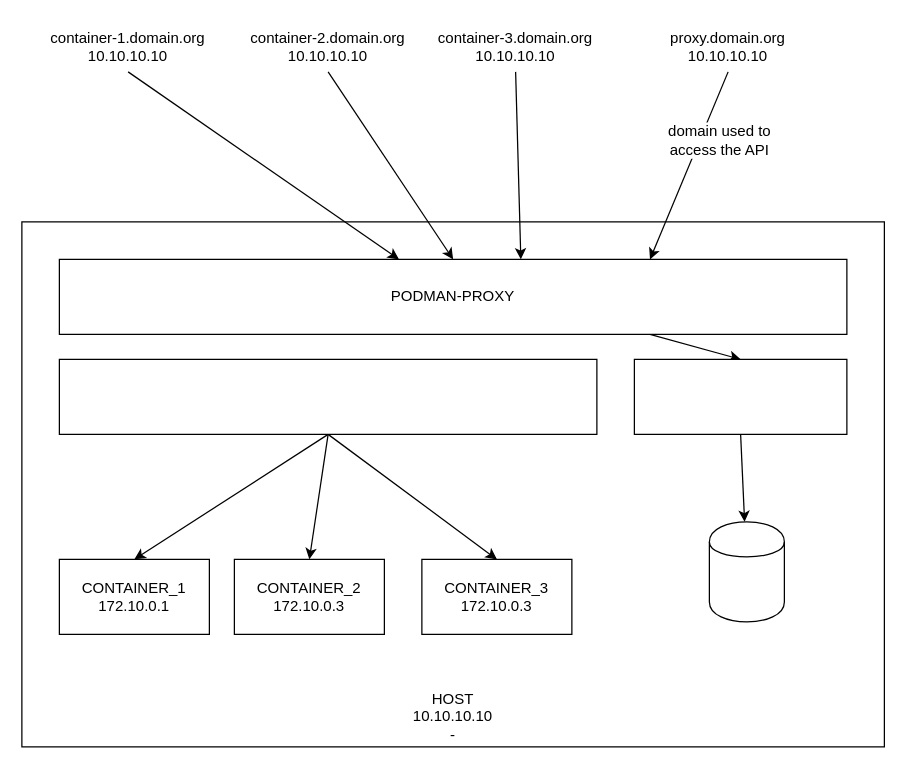
This 906x769 diagram has some shape labels left out. Here are the shapes that lost their labels. From the top down, the box of each, then its label:
(58, 358, 597, 434): REDIRECT HTTP TRAFFIC
(633, 358, 847, 434): API
(708, 521, 784, 622): DB
